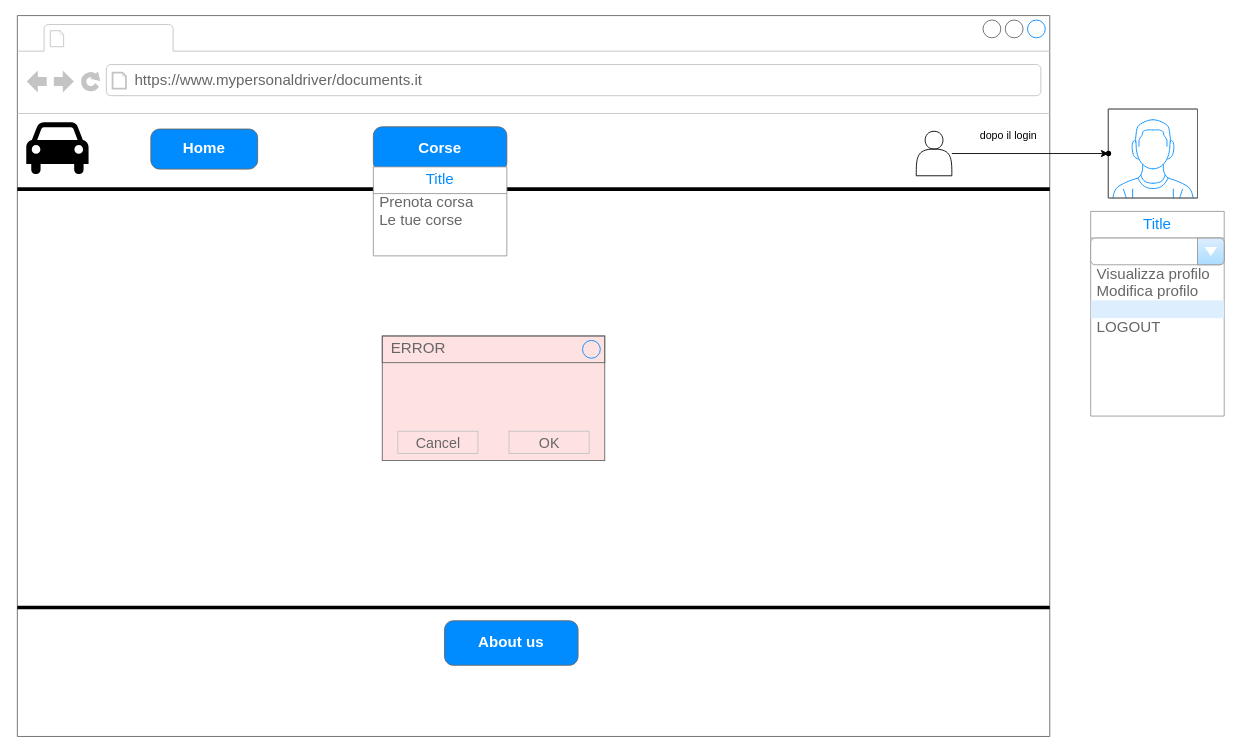
Image size: 1240x752. Some labels were removed from this diagram. Each missing label, with the centre of its shape:
dropdown: pixel 1157 251
Page 1: pixel 119 37
Spiegazione errore: pixel 493 398
